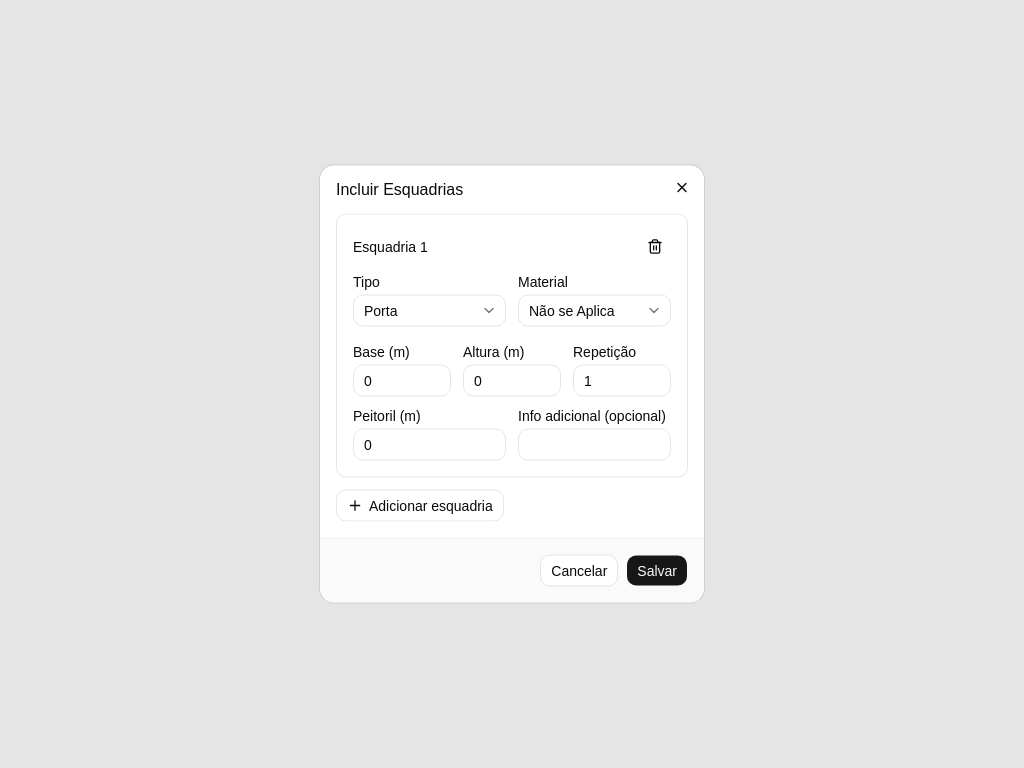
ModalEsquadrias (UC12/UC13-FE) › adiciona e remove itens (useFieldArray)
What coordinates should you click on to do the following:
click the button "Adicionar esquadria"
I would click on:
 (420, 506)
Its box is [336,490,504,522].
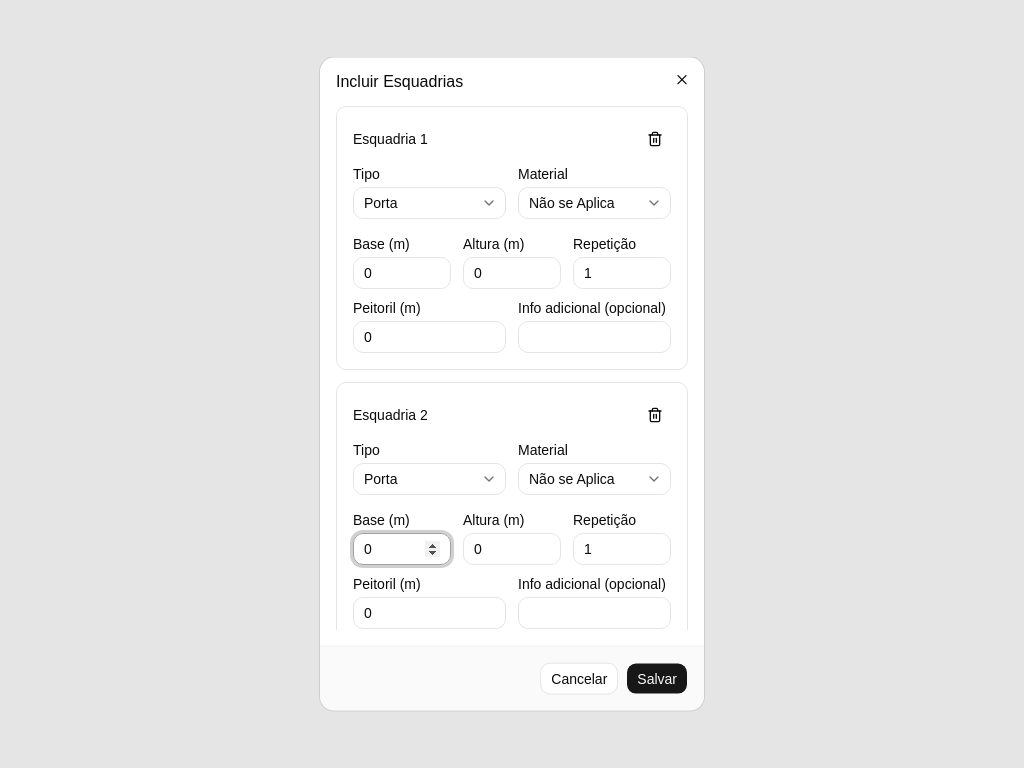
Check: the text "Esquadria 2" is shown, box [353,405,428,425]
What coordinates should you click on to do the following:
click the button named "Remover esquadria 2"
I would click on:
 (655, 415)
Its box is [639,399,671,431].
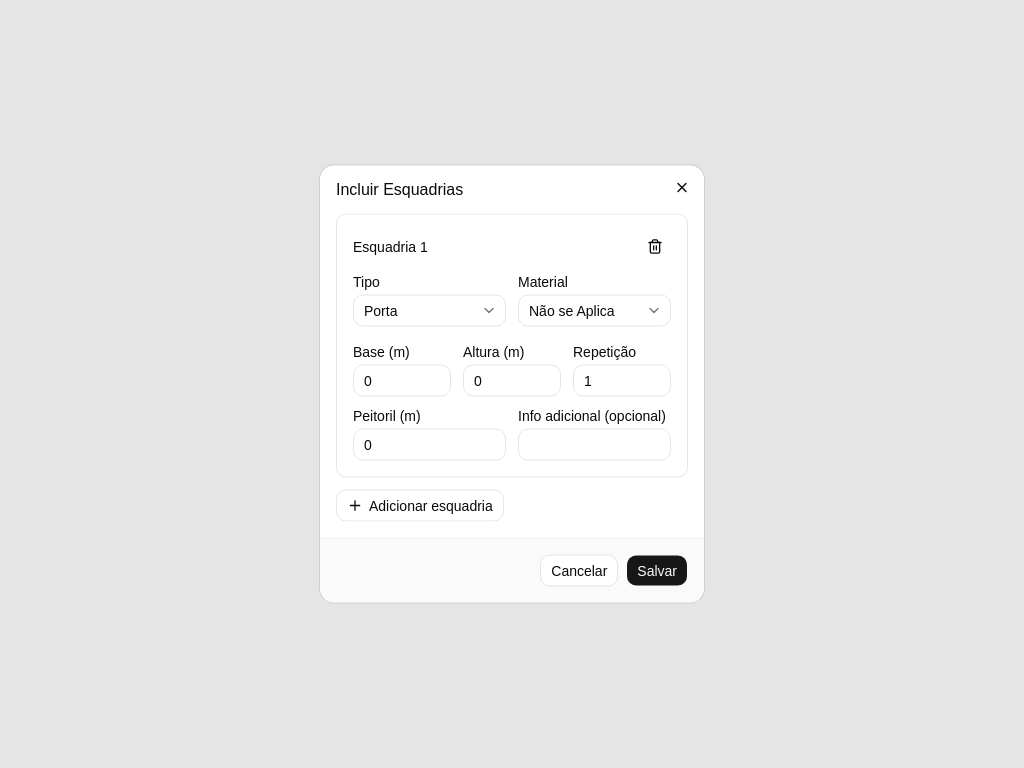
Check: the text "Esquadria 2" is gone
